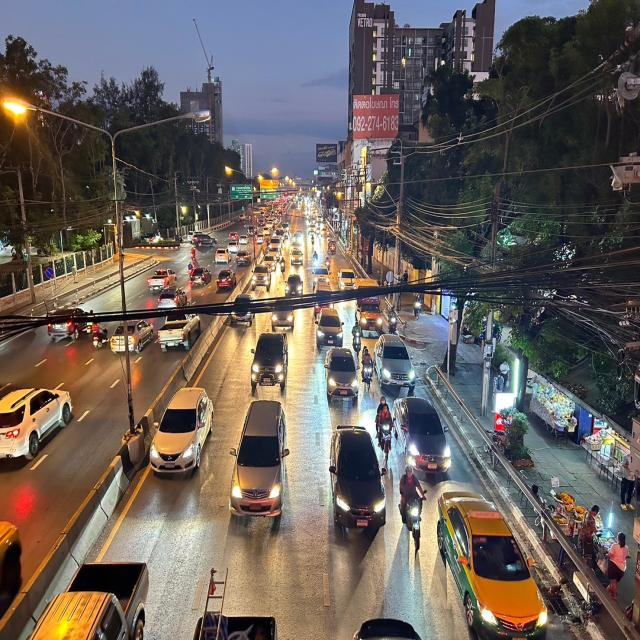bike: (392, 462, 428, 549), (376, 387, 398, 464)
